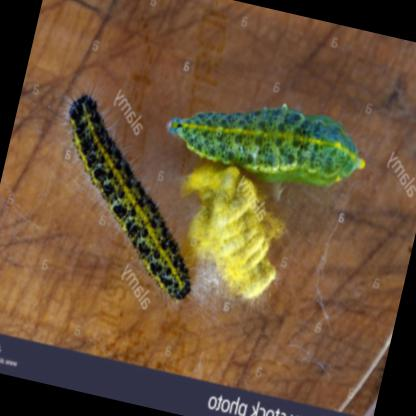pieris: (66, 90, 194, 298), (167, 112, 363, 181)
